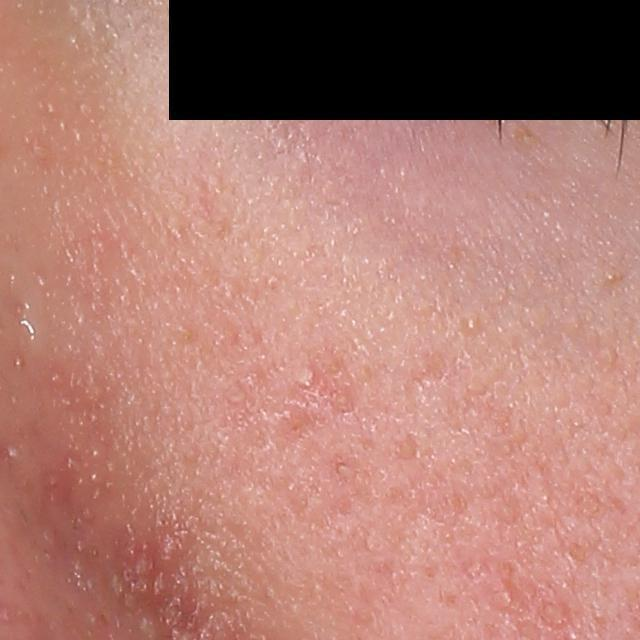comedo: (458, 313, 482, 337), (604, 271, 616, 283)
